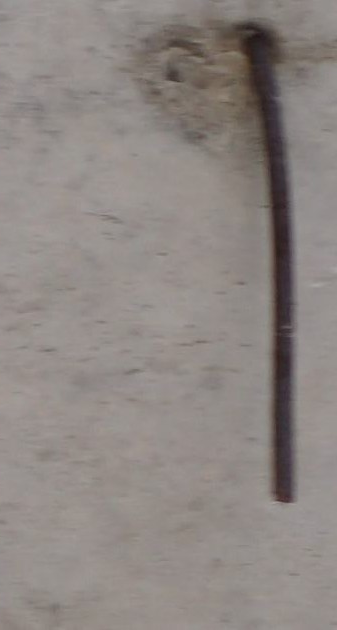Exposed reinforcement: (243, 34, 296, 505)
Spalling: (132, 24, 231, 159)
